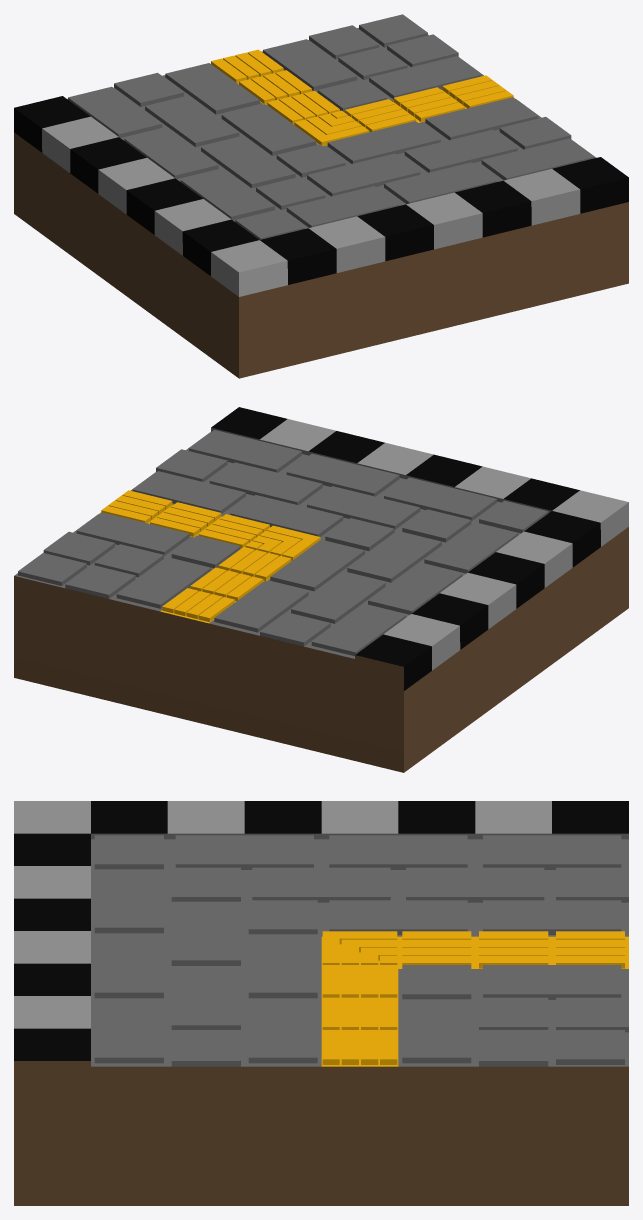
Rendered from trotoar_right_corner.fbx.
3 renders of one model, top to bottom at view 1: azimuth 30°, elevation 25°; view 2: azimuth 150°, elevation 25°; view 3: azimuth 270°, elevation 25°, orthographic. The views are drawn at different scales.
Visible parts, largest first — view 1: Cube.013; view 2: Cube.013; view 3: Cube.013.
Boxes of the visible parts, bbox=[...] form: Cube.013: bbox=[14, 14, 628, 378]; Cube.013: bbox=[14, 407, 628, 772]; Cube.013: bbox=[14, 801, 628, 1205].
Bounding box in the file's own units: 1000 × 260 × 1000.
